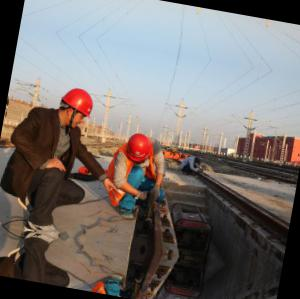helmet: (56, 83, 101, 132), (123, 130, 160, 171)
